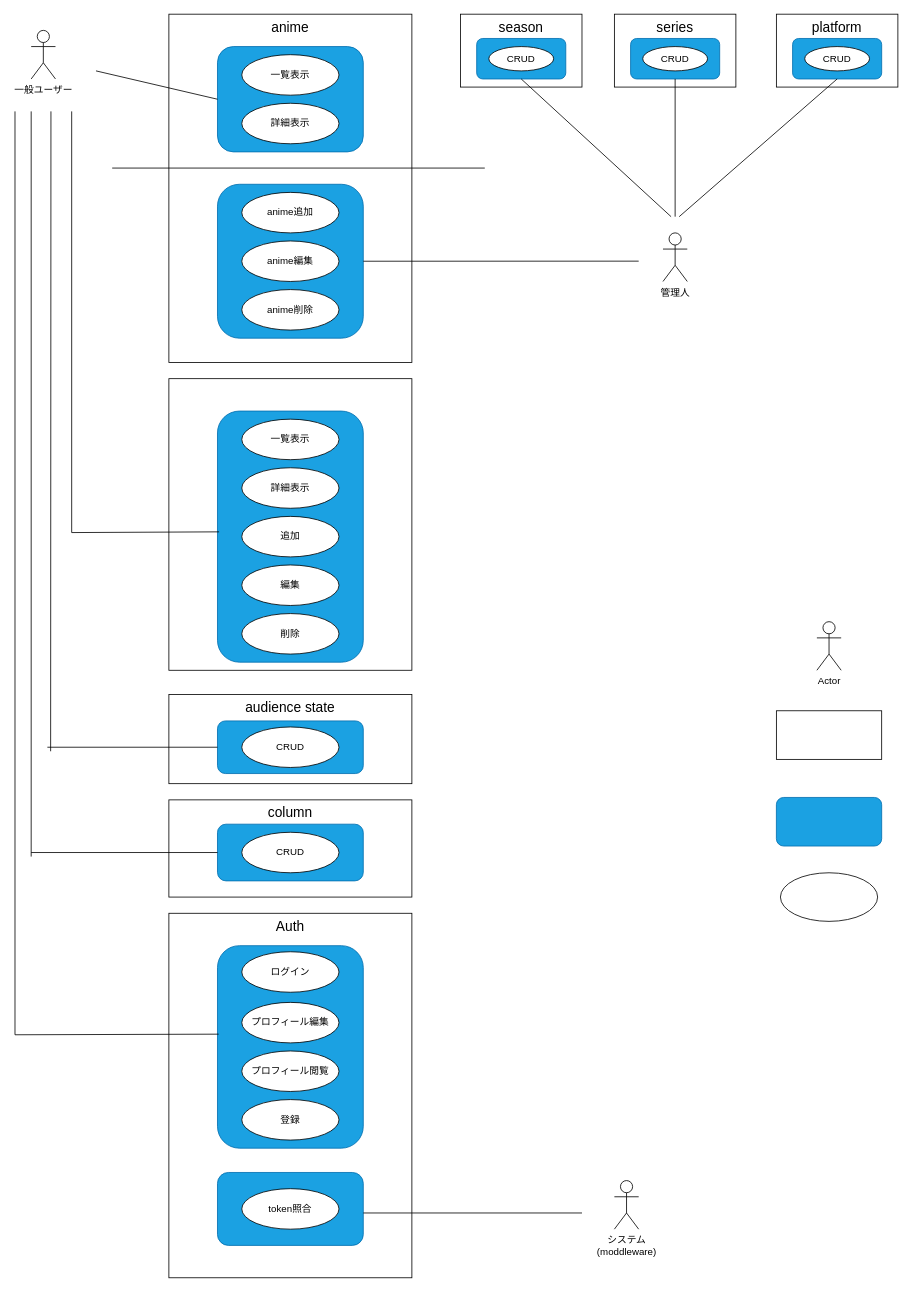
This 912x1292 diagram has some shape labels left out. Here are the shapes that lost their labels. From the top down, the box of each, then its label:
(168, 378, 412, 670): review
(776, 710, 882, 759): Repository
(776, 797, 882, 846): Usecase
(780, 872, 878, 921): Method
